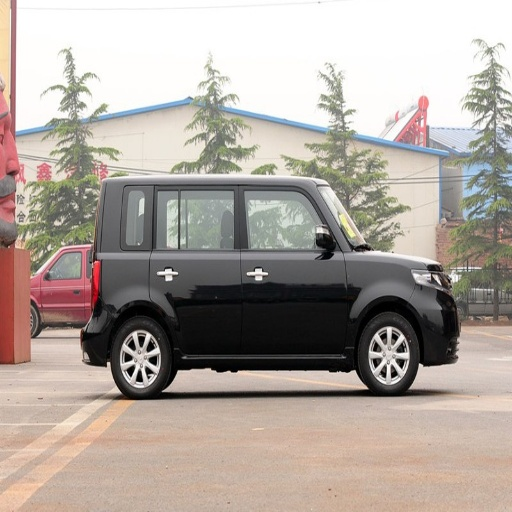back_right_door: (153, 183, 241, 351)
front_right_door: (243, 183, 347, 351)
